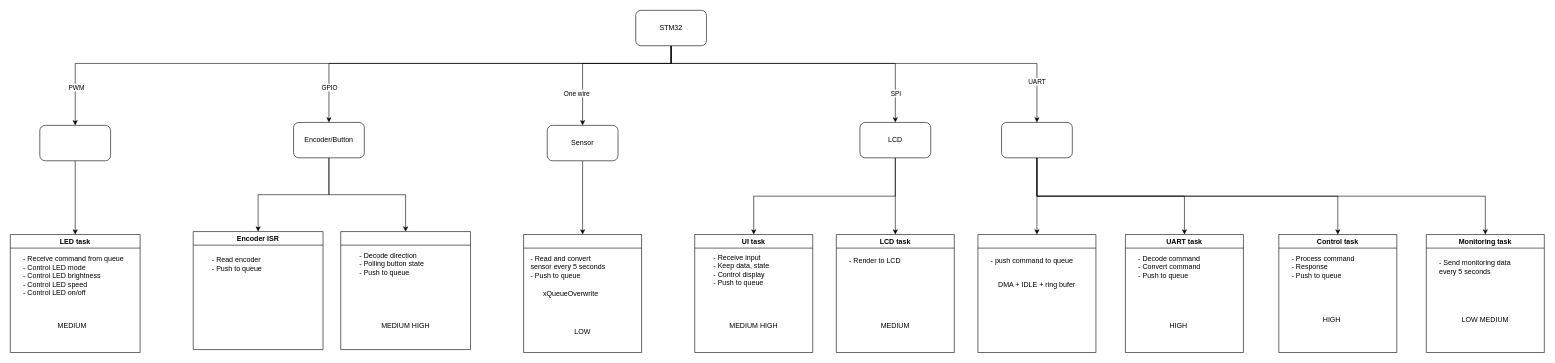
Image size: 1555x363. Some labels were removed from this diagram. The shapes that lost their labels are listed below. From the top down, each one's box as (x1, y1, x2, y2) in pixels, then its label:
(39, 125, 111, 161): LED
(1001, 122, 1072, 158): ESP32
(340, 231, 471, 350): Encoder/Button task
(523, 234, 642, 353): Sensor task
(977, 234, 1096, 353): ISR UART
